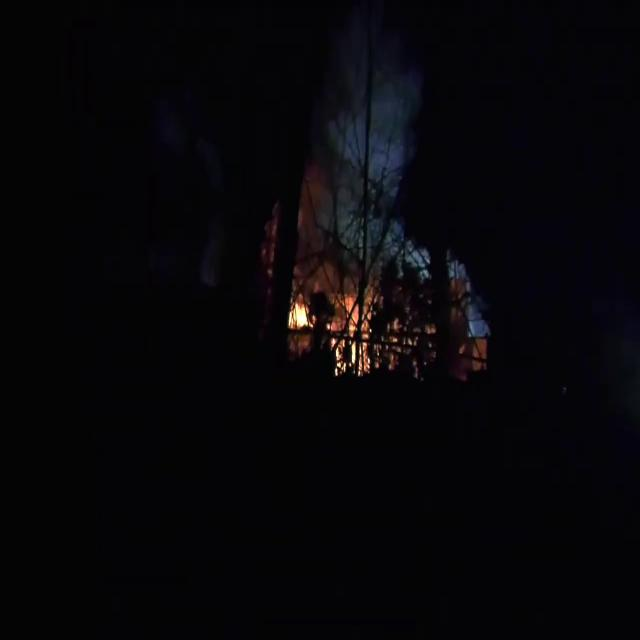fire: (288, 292, 312, 338)
smoke: (321, 2, 425, 264)
